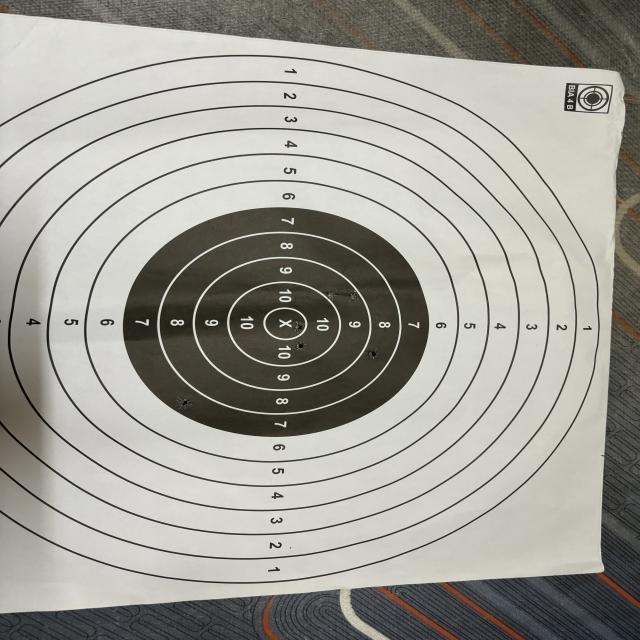bullet: (350, 291, 360, 301), (368, 348, 376, 360), (292, 320, 300, 332), (327, 291, 337, 300), (180, 400, 191, 408), (296, 344, 304, 348)
target: (0, 15, 624, 612)
